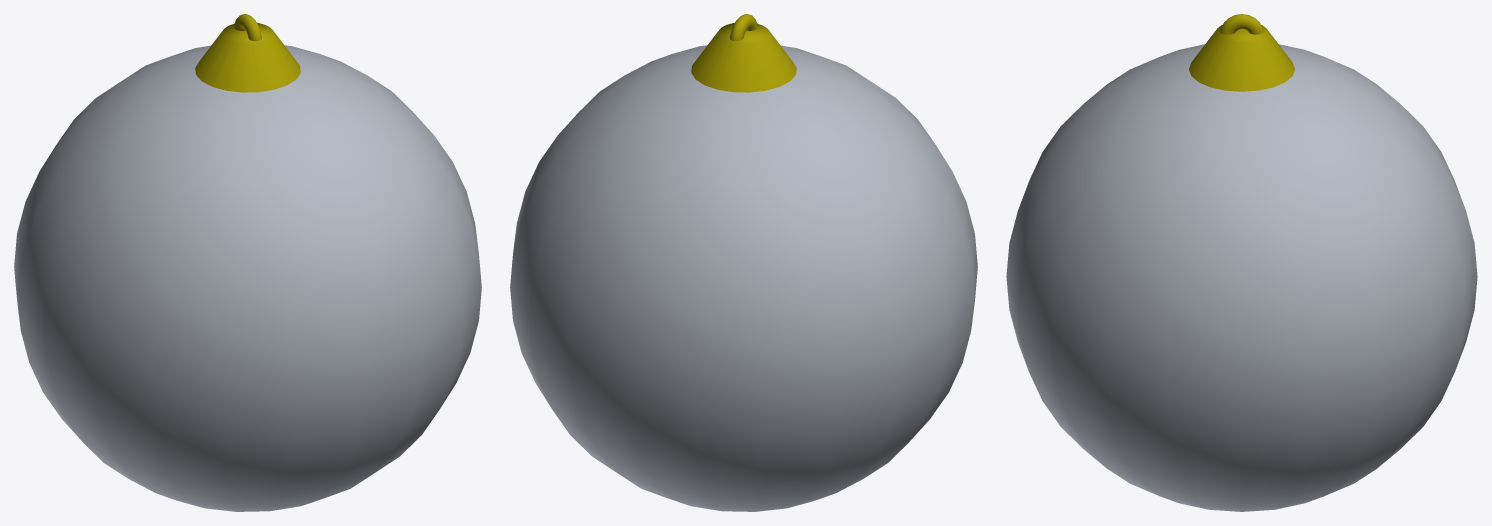
Rendered from Ornament_ball(Silver).fbx.
The picture shows the model from 3 angles, left to right: view 1: azimuth 30°, elevation 25°; view 2: azimuth 150°, elevation 25°; view 3: azimuth 270°, elevation 25°; orthographic projection.
Parts seen in each view (by area): view 1: pSphere1, pCone1; view 2: pSphere1, pCone1; view 3: pSphere1, pCone1, pTorus1.
Boxes of the visible parts, x1,y1,x2,y2 form: pSphere1: (14, 45, 481, 511); pCone1: (195, 23, 300, 92); pSphere1: (510, 45, 977, 511); pCone1: (691, 23, 796, 92); pSphere1: (1006, 44, 1477, 511); pCone1: (1189, 25, 1294, 91); pTorus1: (1220, 14, 1263, 34).
Size of the model in its own units: 2 by 2.23 by 2.
